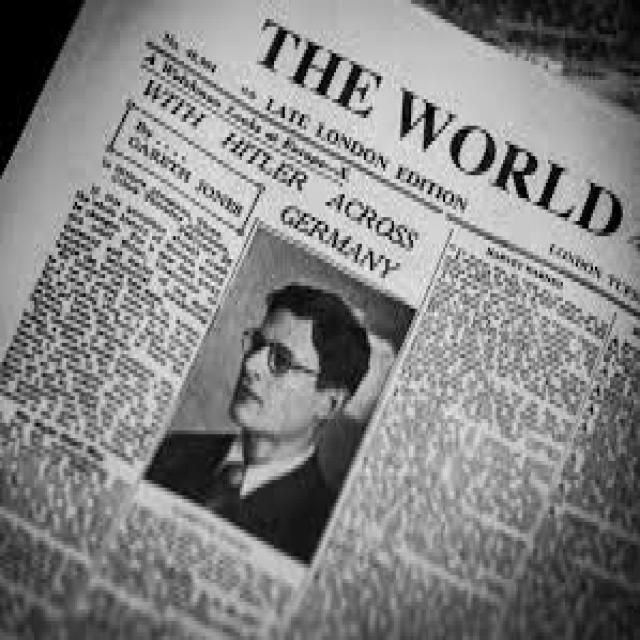paper: (59, 0, 622, 640)
